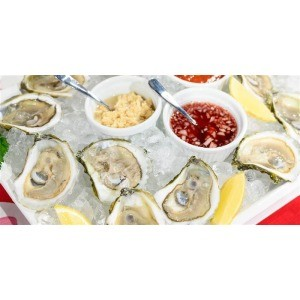oyster_brain food: (10, 87, 68, 204), (90, 163, 210, 217), (239, 109, 290, 180)
